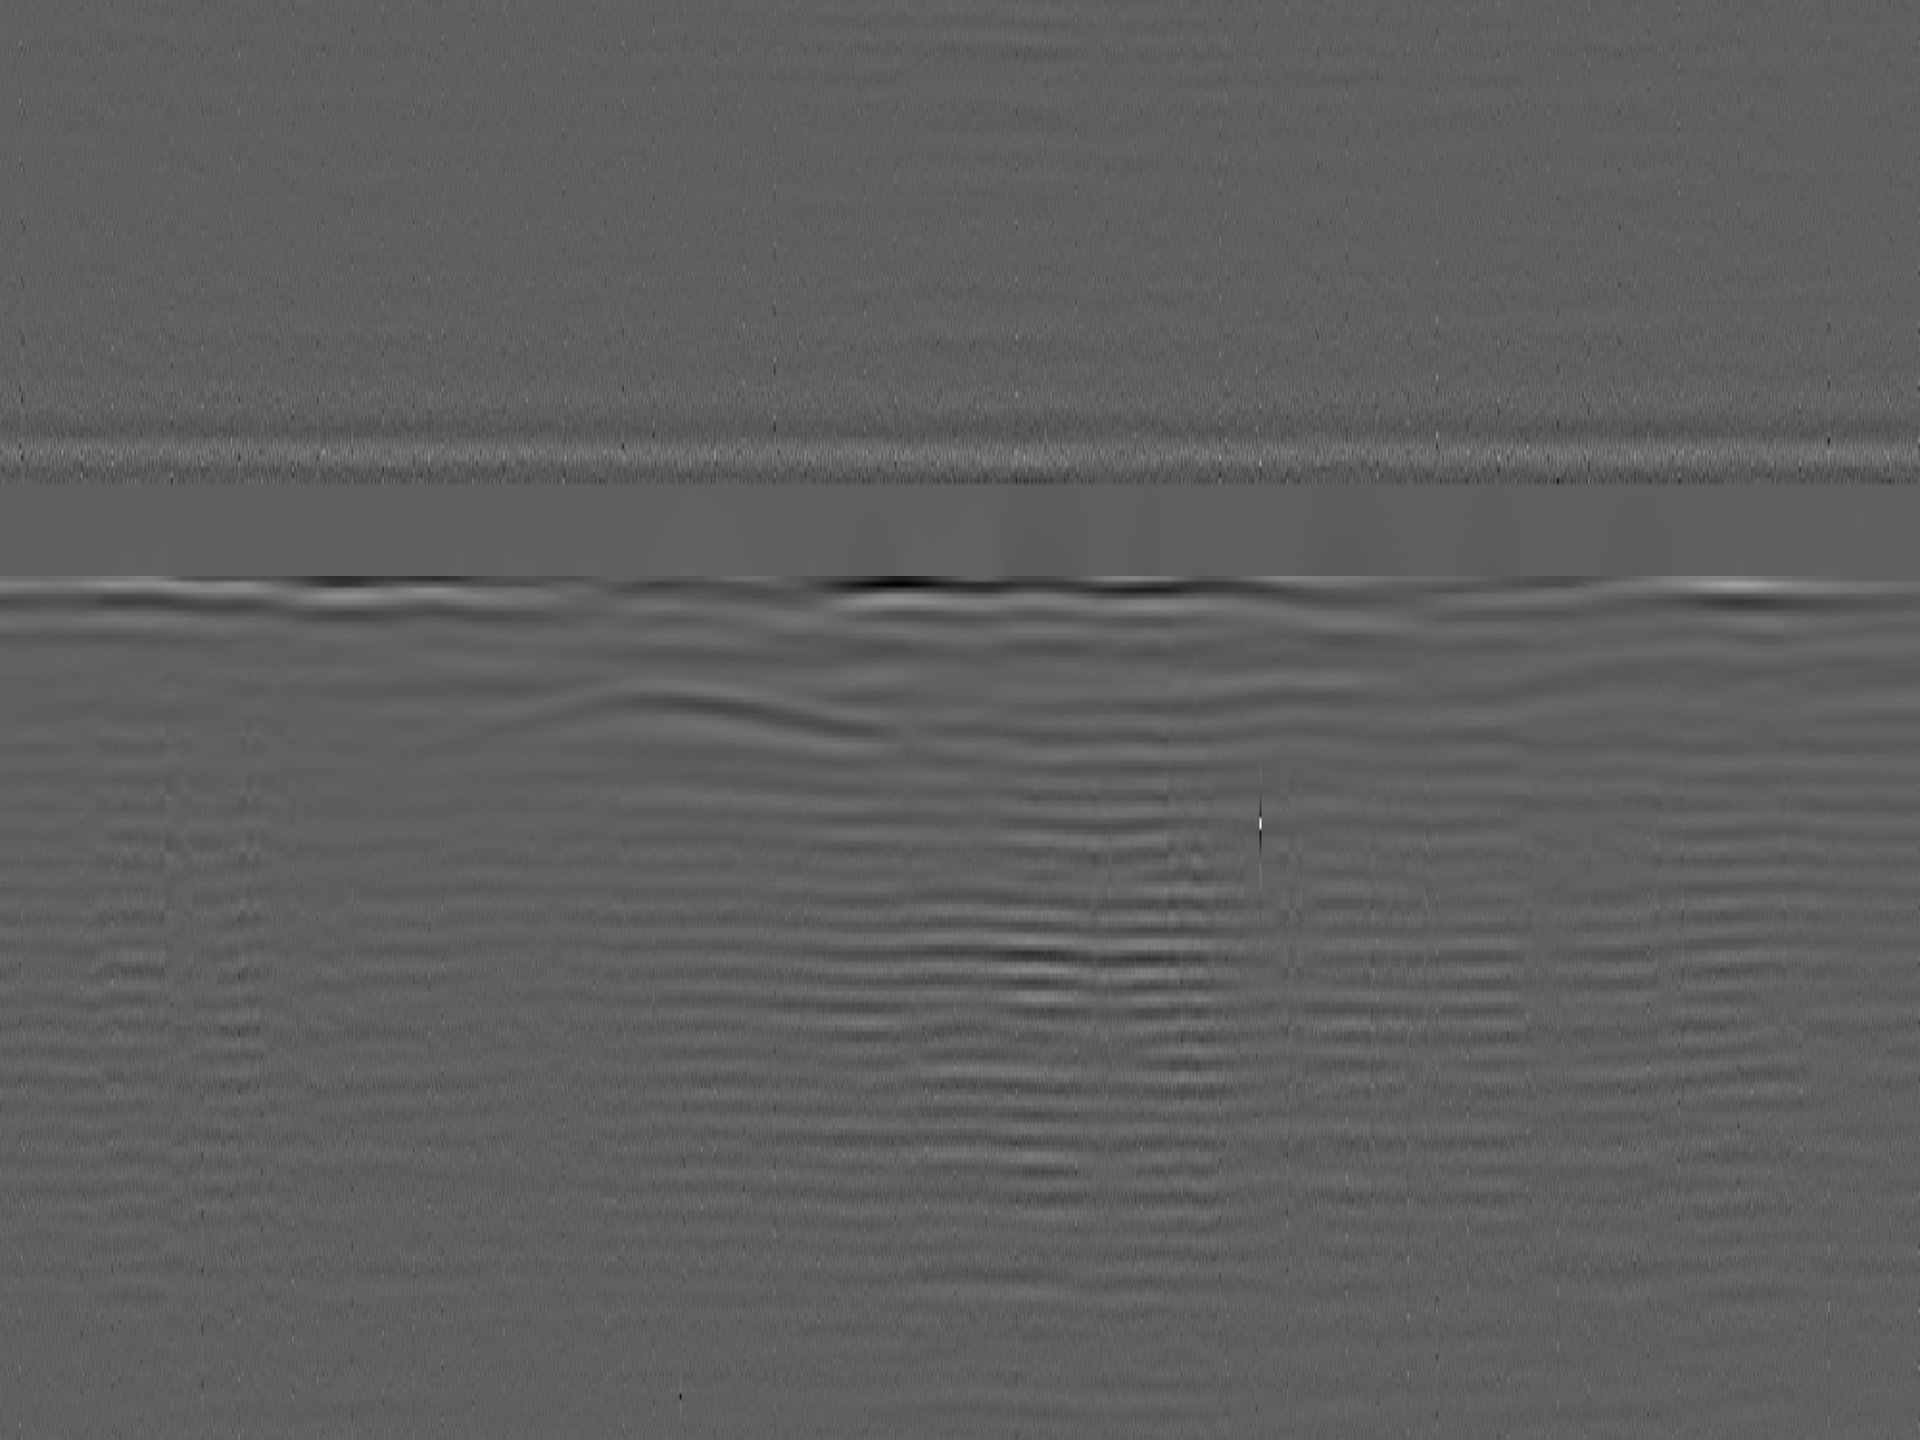Tunnel: (455, 676, 912, 764)
